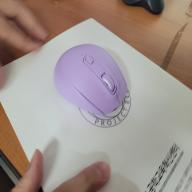mouse: (53, 43, 128, 115)
